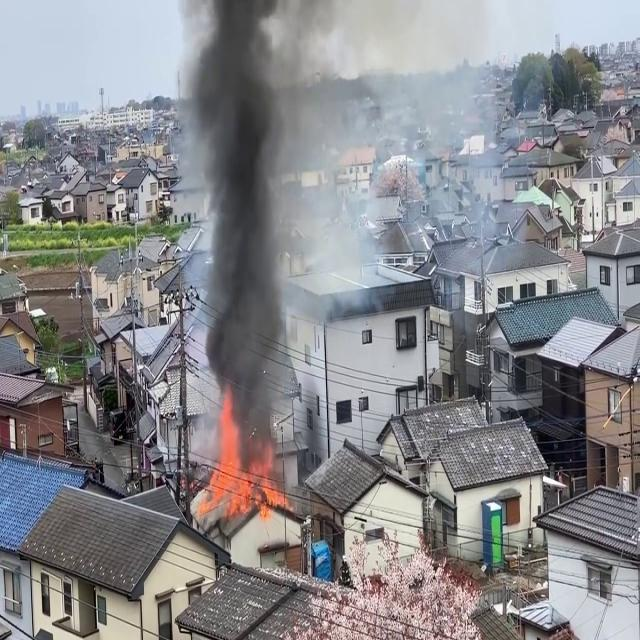Fire: (195, 402, 288, 519)
Smoke: (182, 0, 308, 467)
